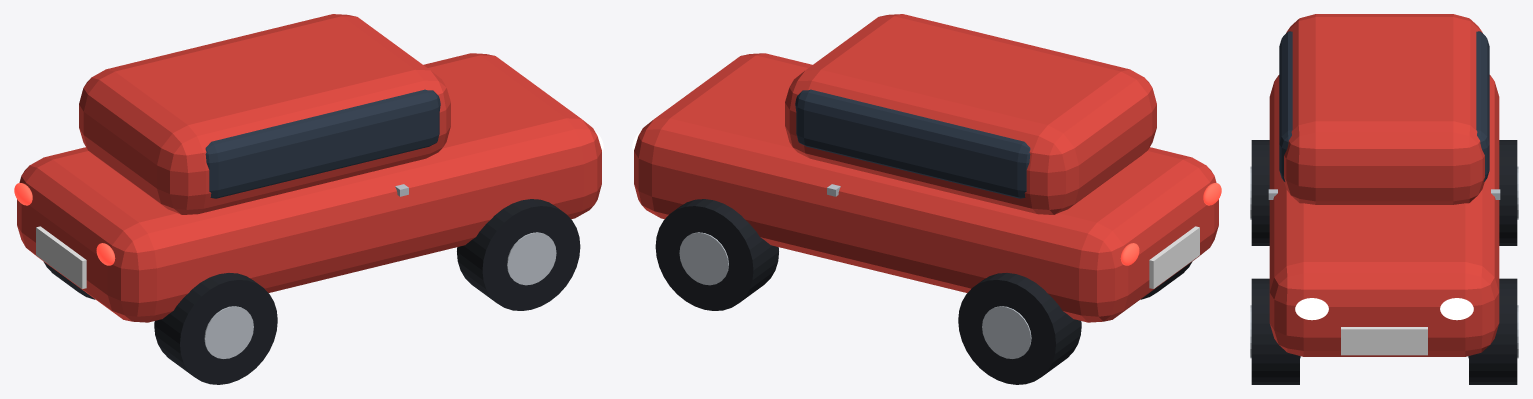
Rendered from coche_rojo.glb.
3 views of the same model, side by side, from view 1: azimuth 30°, elevation 25°; view 2: azimuth 150°, elevation 25°; view 3: azimuth 270°, elevation 25° (orthographic). The views are drawn at different scales.
Visible parts, largest first — view 1: Cube, Cube.001, Cube.002, Cylinder, Cylinder.004, Cylinder.001, Cylinder.005, placa.001; view 2: Cube, Cube.001, Cube.002, Cylinder.002, Cylinder.006, Cylinder.003, Cylinder.007, placa.001; view 3: Cube.001, Cube, Cube.002, Cylinder.004, Cylinder.006, placa, Cylinder, Cylinder.002, Sphere, Sphere.002.
Boxes of the visible parts, x1,y1,x2,y2 form: Cube: (17, 53, 601, 322); Cube.001: (79, 14, 450, 214); Cube.002: (205, 89, 440, 198); Cylinder: (154, 273, 277, 384); Cylinder.004: (457, 199, 580, 310); Cylinder.001: (204, 306, 253, 358); Cylinder.005: (507, 232, 556, 285); placa.001: (36, 226, 86, 288); Cube: (634, 53, 1218, 322); Cube.001: (785, 14, 1156, 214); Cube.002: (795, 89, 1030, 198); Cylinder.002: (958, 273, 1081, 384); Cylinder.006: (655, 199, 778, 310); Cylinder.003: (982, 306, 1031, 358); Cylinder.007: (679, 232, 728, 285); placa.001: (1149, 226, 1199, 288); Cube.001: (1284, 14, 1484, 204); Cube: (1269, 75, 1499, 356); Cube.002: (1279, 31, 1489, 181); Cylinder.004: (1251, 278, 1299, 384); Cylinder.006: (1469, 278, 1517, 384); placa: (1341, 327, 1427, 355); Cylinder: (1251, 140, 1269, 245); Cylinder.002: (1499, 140, 1517, 245); Sphere: (1295, 298, 1328, 320); Sphere.002: (1440, 298, 1473, 320).
Bounding box in the file's own units: 2.25 × 1.01 × 1.11.
